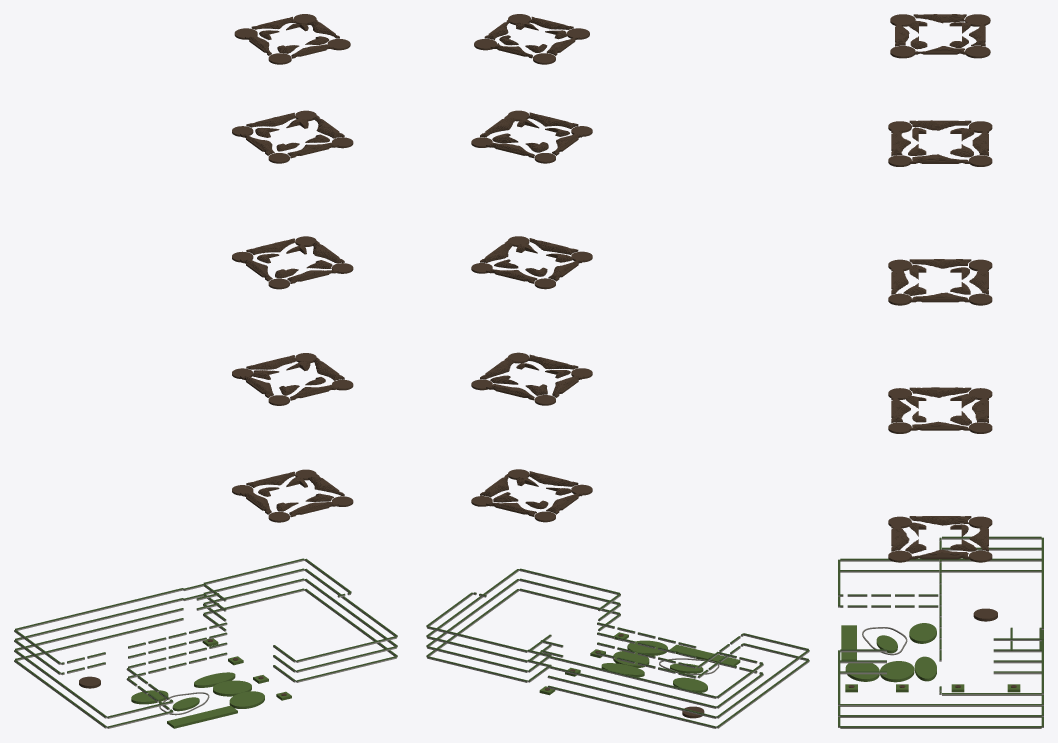
File: pflanzen.glb
The picture shows the model from 3 angles, left to right: view 1: azimuth 30°, elevation 25°; view 2: azimuth 150°, elevation 25°; view 3: azimuth 270°, elevation 25°; orthographic projection. The views are drawn at different scales.
Visible parts, largest first — view 1: pflanzen; view 2: pflanzen; view 3: pflanzen.
Part boxes in pixels (x1,y1,x2,y2): pflanzen: (14, 14, 397, 728); pflanzen: (426, 14, 809, 728); pflanzen: (838, 14, 1043, 728).
Size of the model in its own units: 147 by 298 by 81.2.
